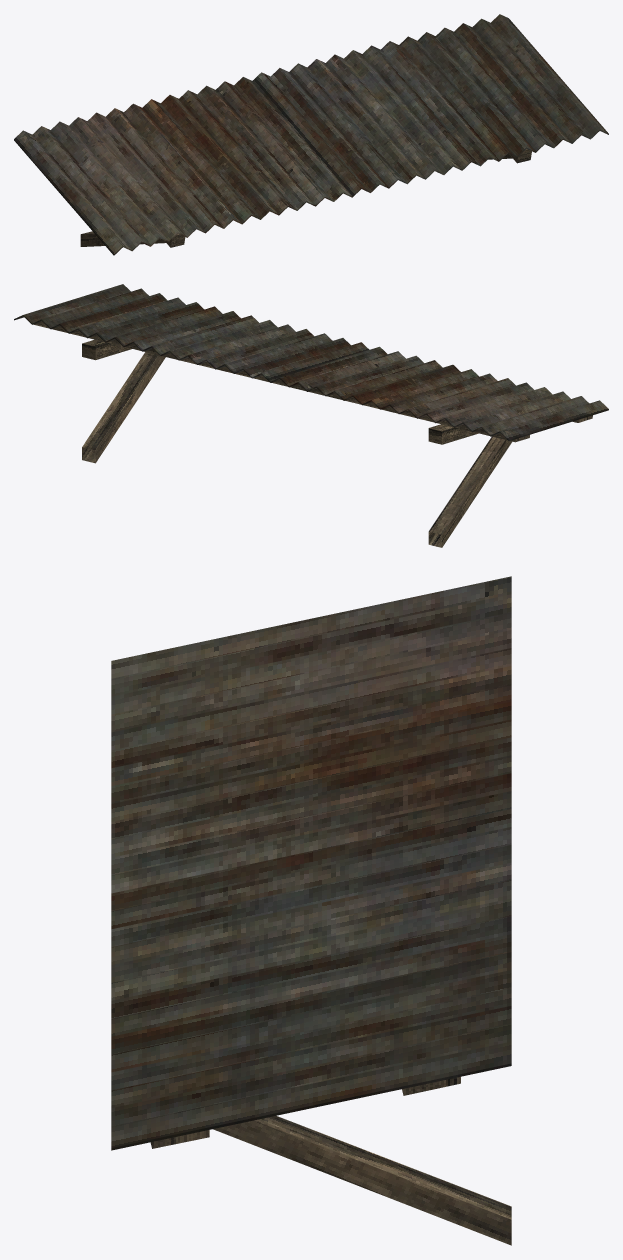
Rendered from roof_small_hr_3.glb.
The picture shows the model from 3 angles, top to bottom: view 1: azimuth 30°, elevation 25°; view 2: azimuth 150°, elevation 25°; view 3: azimuth 270°, elevation 25°; orthographic projection. The views are drawn at different scales.
Visible parts, largest first — view 1: roof_small_hr_3; view 2: roof_small_hr_3; view 3: roof_small_hr_3.
Boxes of the visible parts, left/top/right/bottom form: roof_small_hr_3: left=14, top=14, right=608, bottom=255; roof_small_hr_3: left=14, top=284, right=608, bottom=547; roof_small_hr_3: left=111, top=576, right=511, bottom=1245.
Bounding box in the file's own units: 4 × 1.01 × 1.4.
Materials: 2 (2 with a texture image).
